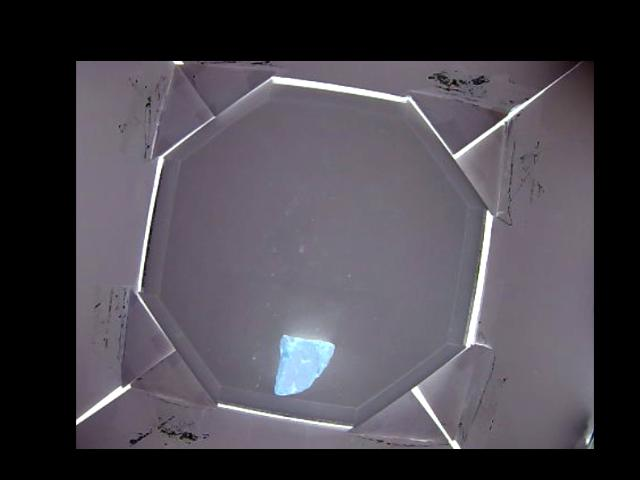Brisk: (275, 333, 335, 394)
